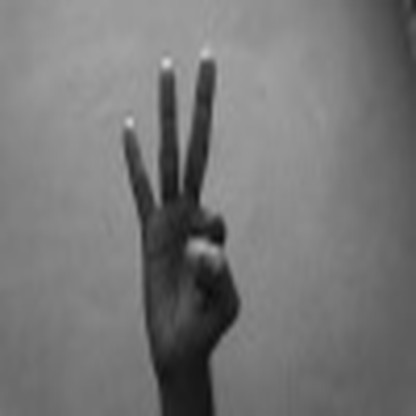f: (115, 45, 245, 376)
